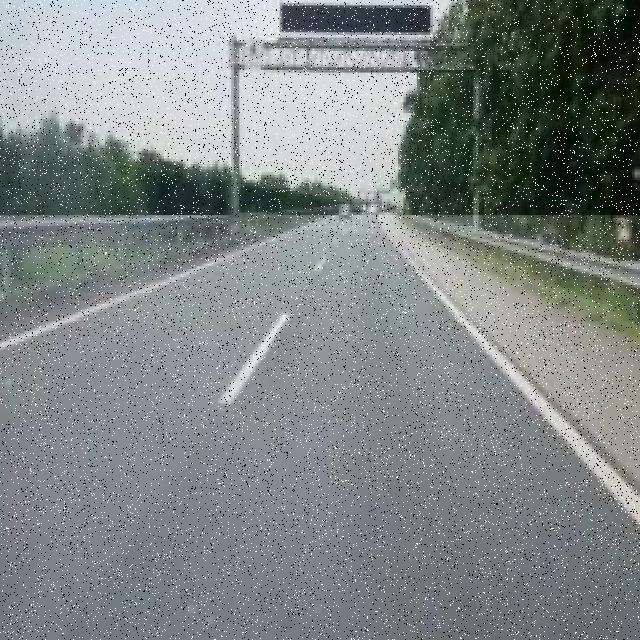clear-road: (0, 216, 640, 640)
